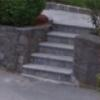stairs: (22, 24, 75, 87)
